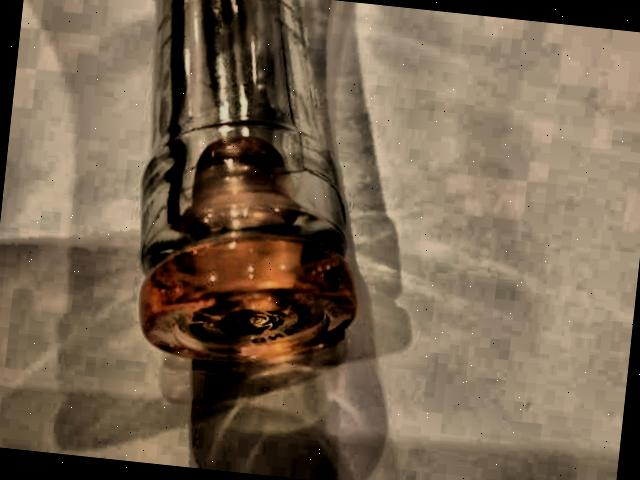Bottles: (71, 0, 404, 408)
